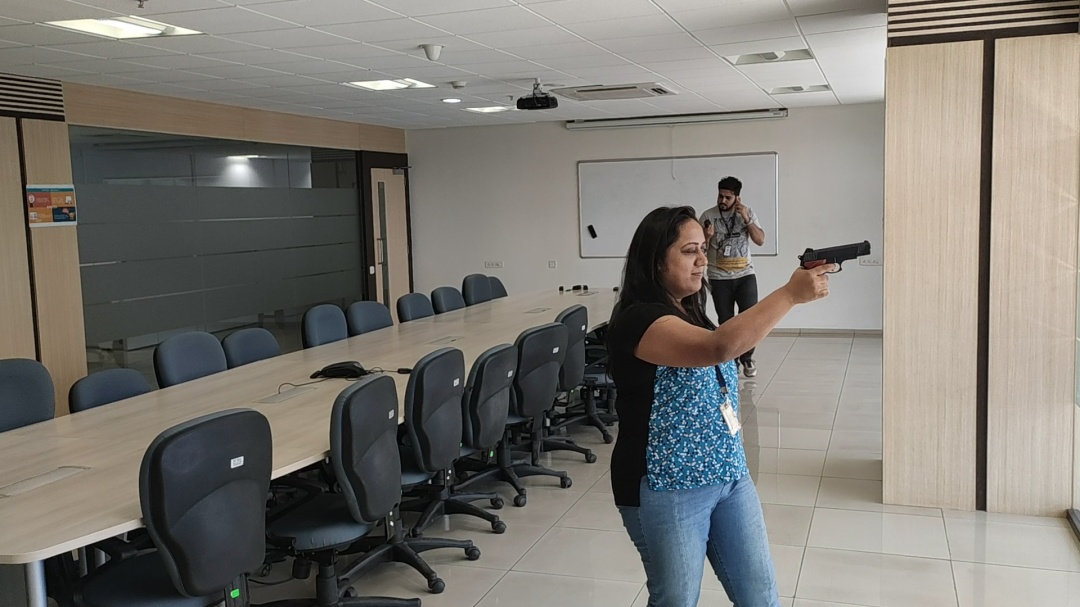gun: (798, 239, 872, 274)
